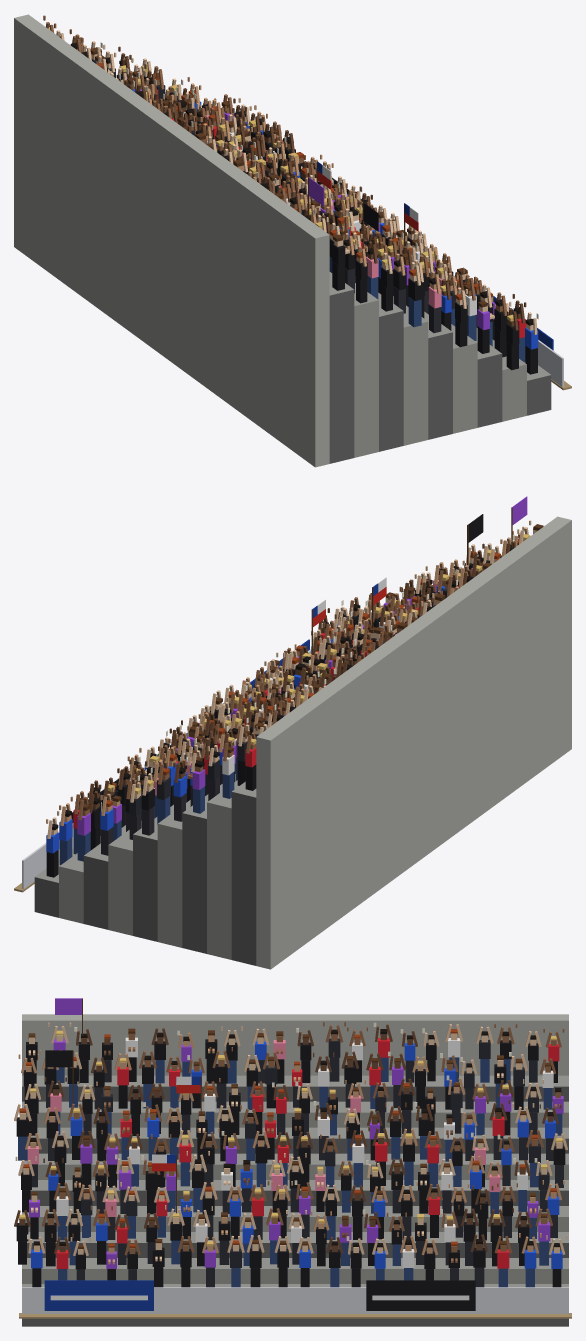
The model's file is hinchada_estadio_0.obj.
3 views of the same model, one above another, from view 1: azimuth 30°, elevation 25°; view 2: azimuth 150°, elevation 25°; view 3: azimuth 270°, elevation 25° (orthographic). The views are drawn at different scales.
Visible parts, largest first — view 1: hinchada_estadio_0; view 2: hinchada_estadio_0; view 3: hinchada_estadio_0.
Part boxes in pixels (left/top/right/bottom): hinchada_estadio_0: left=14, top=14, right=571, bottom=467; hinchada_estadio_0: left=14, top=496, right=571, bottom=969; hinchada_estadio_0: left=14, top=998, right=571, bottom=1326.
Size of the model in its own units: 8.8 by 8.55 by 18.37.
